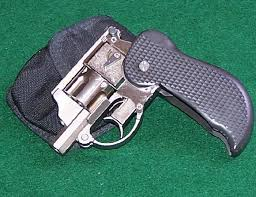gun: (49, 27, 254, 161)
